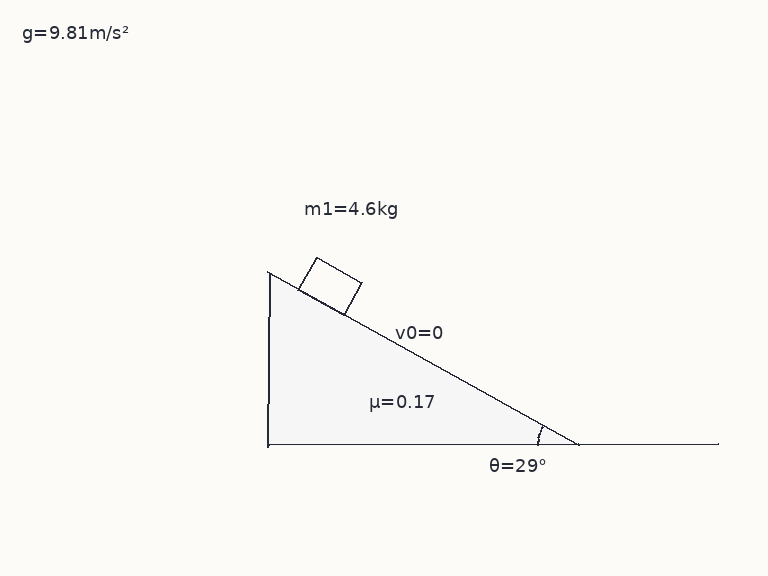block: (296, 255, 363, 317)
ramp: (266, 271, 580, 447)
